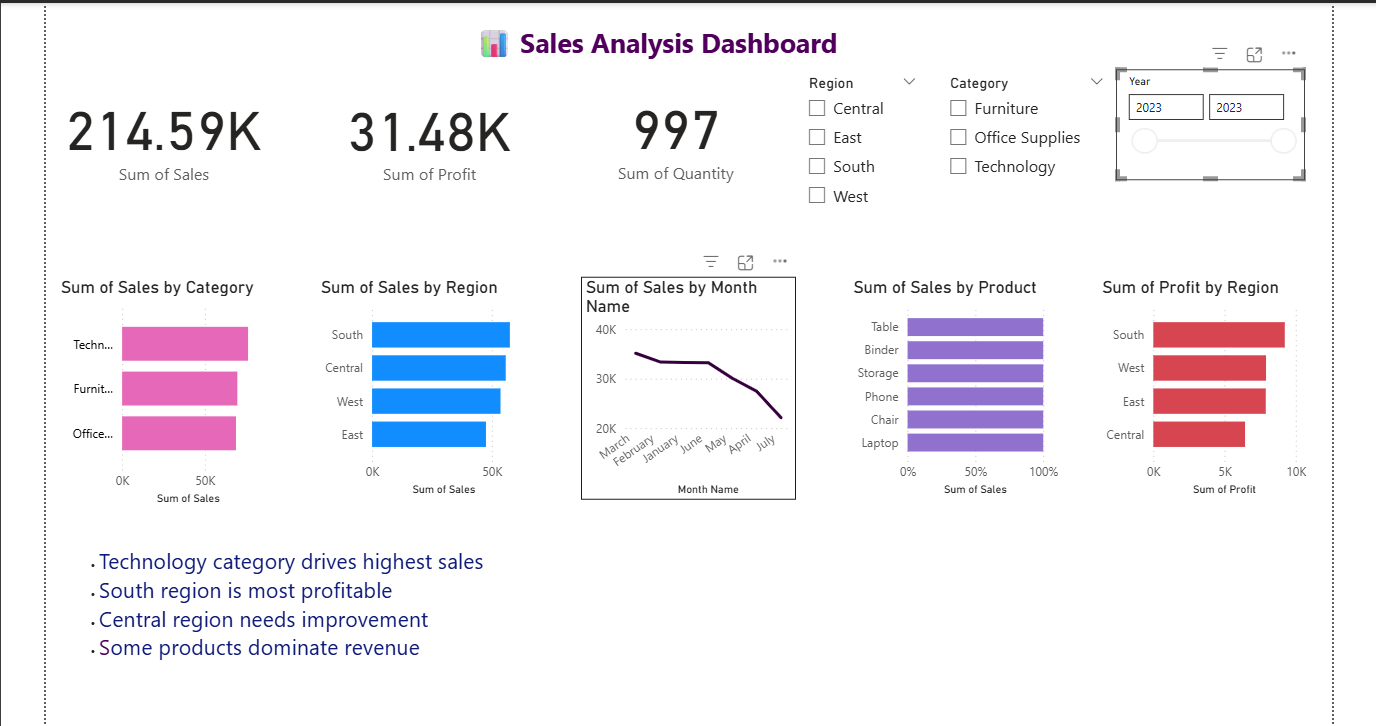

The dashboard page shown, as its layout file describes it:
{"tool":"powerbi","page":{"name":"Page 1","canvas":[1280,720],"ordinal":0},"visuals":[{"type":"card","fields":{"Values":["Sum(cleaned_sales.Sales)"]},"box":[11.2,16.2,212.7,230.1],"z":0},{"type":"card","fields":{"Values":["Sum(cleaned_sales.Profit)"]},"box":[281.1,32.3,201.5,199],"z":1000},{"type":"card","fields":{"Values":["Sum(cleaned_sales.Quantity)"]},"box":[520,14.9,214,231.4],"z":2000},{"type":"clusteredBarChart","fields":{"Y":["Sum(cleaned_sales.Sales)"],"Category":["cleaned_sales.Category"]},"box":[10,272.4,212.7,231.4],"z":3000},{"type":"barChart","fields":{"Y":["Sum(cleaned_sales.Sales)"],"Category":["cleaned_sales.Region"]},"box":[268.7,272.4,214,222.7],"z":4000},{"type":"lineChart","fields":{"Category":["cleaned_sales.Month Name"],"Y":["Sum(cleaned_sales.Sales)"]},"box":[532.4,272.4,214,222.7],"z":5000},{"type":"hundredPercentStackedBarChart","fields":{"Y":["Sum(cleaned_sales.Sales)"],"Category":["cleaned_sales.Product"]},"box":[798.6,272.4,214,222.7],"z":6000},{"type":"barChart","fields":{"Category":["cleaned_sales.Region"],"Y":["Sum(cleaned_sales.Profit)"]},"box":[1046.2,272.4,212.7,222.7],"z":7000},{"type":"slicer","fields":{"Values":["cleaned_sales.Region"]},"box":[746.4,65.9,131.9,153],"z":8000},{"type":"slicer","fields":{"Values":["cleaned_sales.Category"]},"box":[886.9,65.9,177.9,144.3],"z":8001},{"type":"slicer","fields":{"Values":["cleaned_sales.Year"]},"box":[1064.8,65.9,187.8,110.7],"z":8002},{"type":"textbox","box":[328.4,16.2,558.5,49.8],"z":8003},{"type":"textbox","box":[30.2,535.2,554.4,140],"z":8004}]}

Visuals, with their boxes on the page's 1280x720 design canvas (x1, y1, x2, y2). These are canvas units, not pixel positions in the 1376x726 screenshot, which may show the page scaled, cropped or inside an application window:
card - Sum(cleaned_sales.Sales): crop(11, 16, 224, 246)
card - Sum(cleaned_sales.Profit): crop(281, 32, 483, 231)
card - Sum(cleaned_sales.Quantity): crop(520, 15, 734, 246)
clusteredBarChart - Sum(cleaned_sales.Sales) x cleaned_sales.Category: crop(10, 272, 223, 504)
barChart - Sum(cleaned_sales.Sales) x cleaned_sales.Region: crop(269, 272, 483, 495)
lineChart - cleaned_sales.Month Name x Sum(cleaned_sales.Sales): crop(532, 272, 746, 495)
hundredPercentStackedBarChart - Sum(cleaned_sales.Sales) x cleaned_sales.Product: crop(799, 272, 1013, 495)
barChart - cleaned_sales.Region x Sum(cleaned_sales.Profit): crop(1046, 272, 1259, 495)
slicer - cleaned_sales.Region: crop(746, 66, 878, 219)
slicer - cleaned_sales.Category: crop(887, 66, 1065, 210)
slicer - cleaned_sales.Year: crop(1065, 66, 1253, 177)
textbox: crop(328, 16, 887, 66)
textbox: crop(30, 535, 585, 675)
